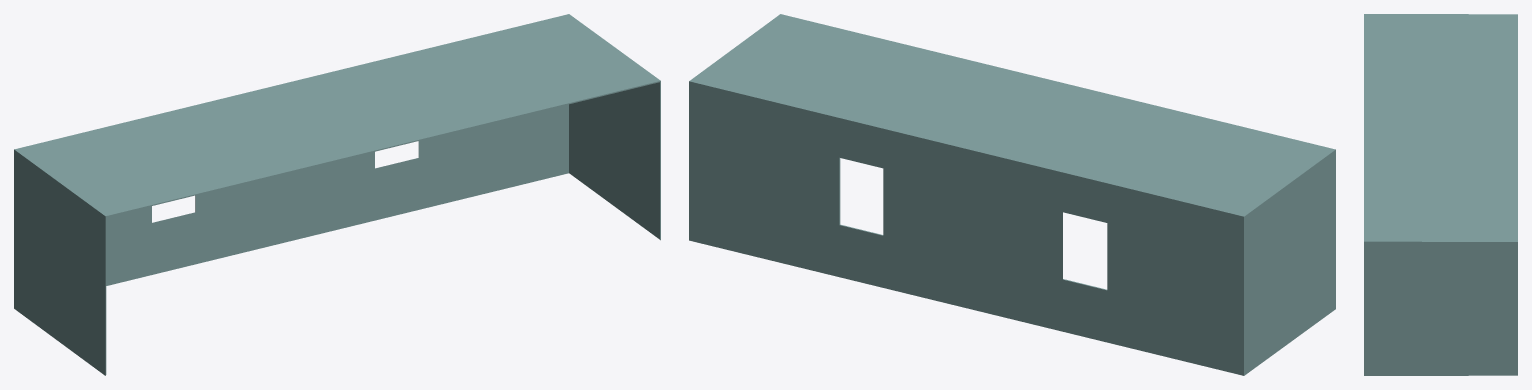
The model's file is nursery walls.FBX.
3 views of the same model, side by side, from view 1: azimuth 30°, elevation 25°; view 2: azimuth 150°, elevation 25°; view 3: azimuth 270°, elevation 25° (orthographic). The views are drawn at different scales.
Parts seen in each view (by area): view 1: Bedroom; view 2: Bedroom; view 3: Bedroom.
Boxes of the visible parts, box(x1,y1,x2,y2) form: Bedroom: box(14, 14, 660, 375); Bedroom: box(689, 14, 1335, 375); Bedroom: box(1364, 14, 1517, 375).
Bounding box in the file's own units: 429 × 123 × 118.
